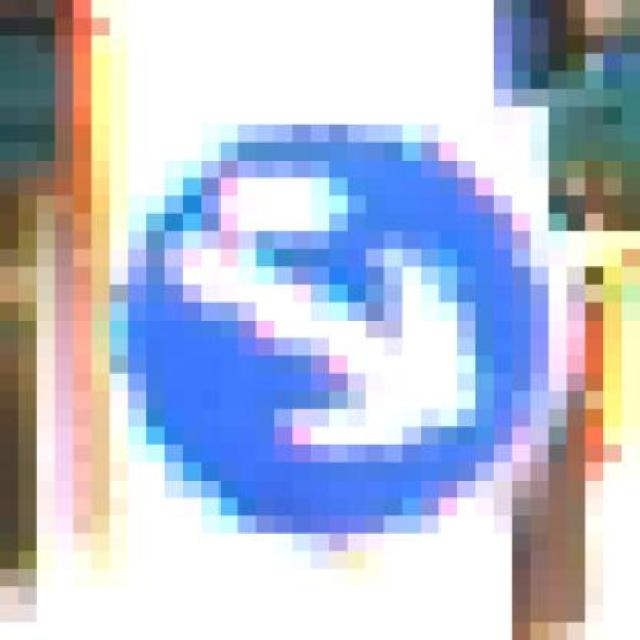Keep-Right: (110, 125, 585, 569)
